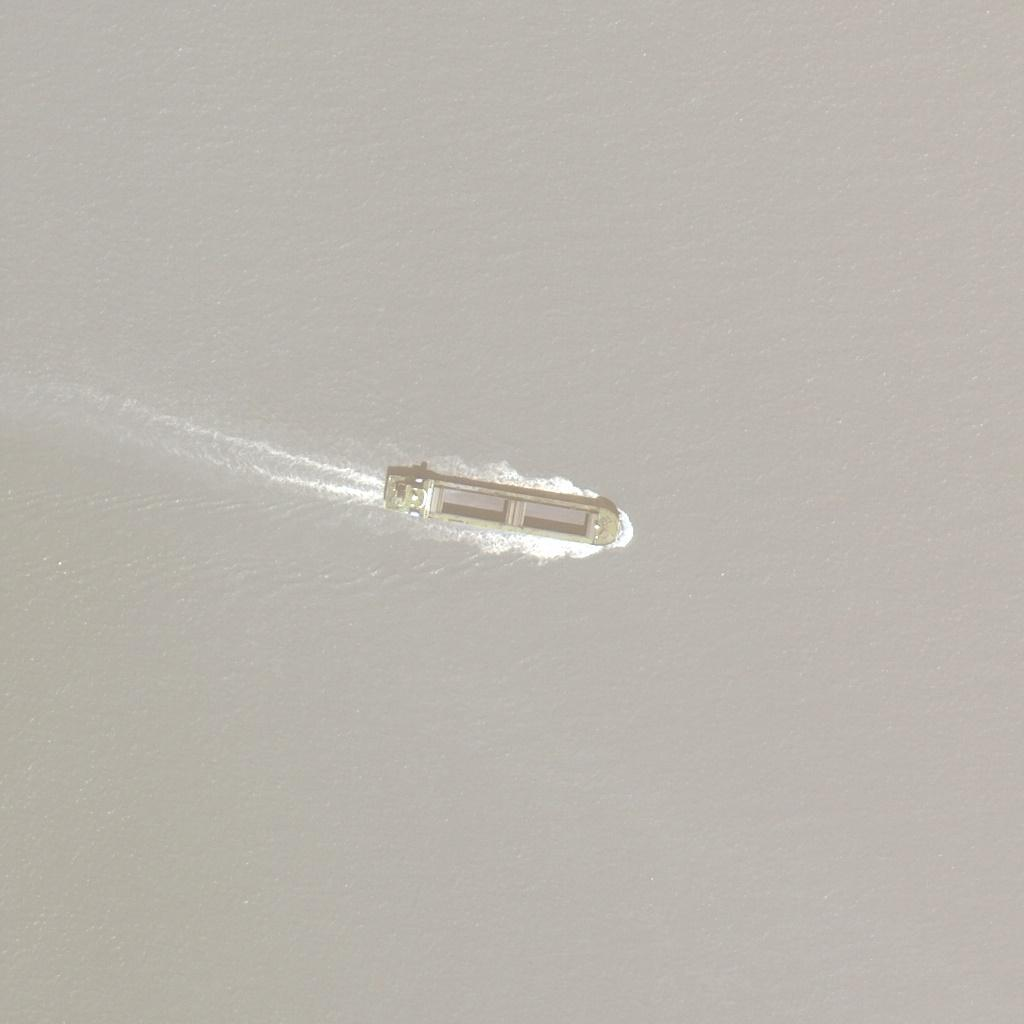ship: (383, 470, 629, 554)
